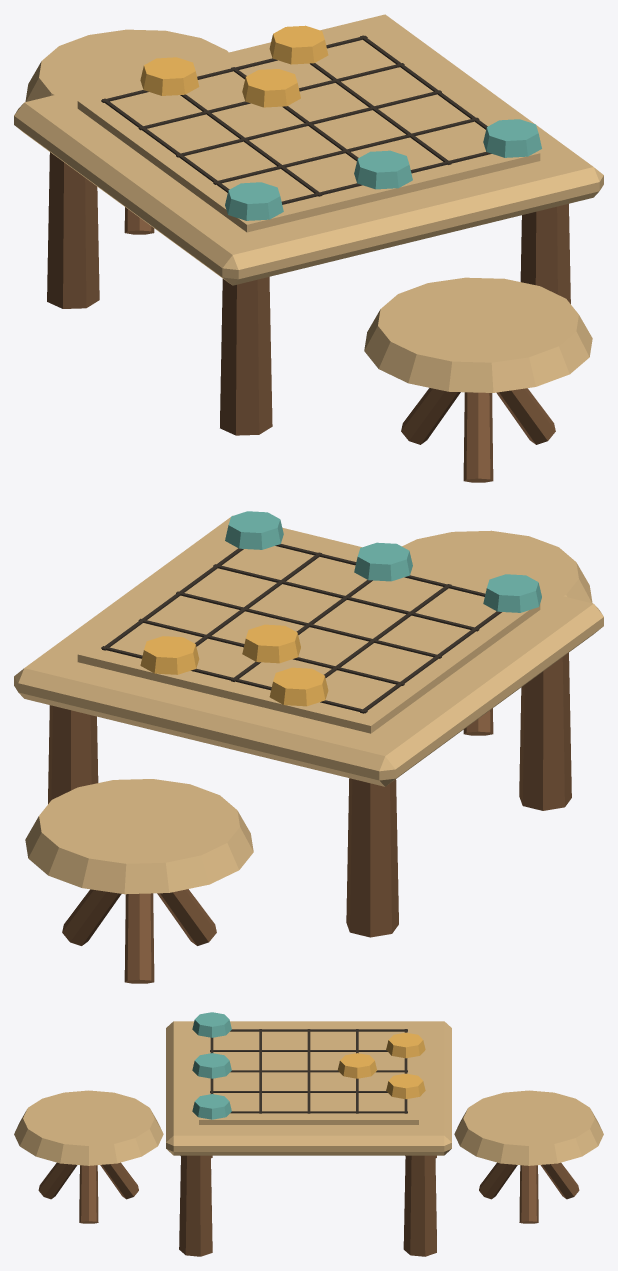
File: CC_Janggi.fbx
The picture shows the model from 3 angles, top to bottom: view 1: azimuth 30°, elevation 25°; view 2: azimuth 150°, elevation 25°; view 3: azimuth 270°, elevation 25°; orthographic projection. The views are drawn at different scales.
Visible parts, largest first — view 1: Janggi board, Top.005, Stool seat.003, Leg.072, Stool seat.004, Leg.073, Leg.074, Stool leg.011, Janggi piece.002, Janggi piece.005, Janggi piece.001, Janggi piece.003 (+13 smaller); view 2: Janggi board, Top.005, Stool seat.004, Leg.073, Stool seat.003, Leg.072, Leg.075, Stool leg.013, Janggi piece.001, Janggi piece.003, Janggi piece.002, Janggi piece.004 (+13 smaller); view 3: Top.005, Janggi board, Stool seat.003, Stool seat.004, Leg.074, Leg.075, Stool leg.009, Stool leg.012, Janggi piece, Janggi piece.001, Janggi piece.002, Janggi piece.005 (+11 smaller).
Part boxes in pixels (x1,y1,x2,y2): Janggi board: [77, 29, 540, 232]; Top.005: [14, 14, 603, 285]; Stool seat.003: [364, 277, 592, 392]; Leg.072: [220, 277, 272, 435]; Stool seat.004: [25, 29, 228, 101]; Leg.073: [47, 152, 99, 308]; Leg.074: [520, 204, 570, 303]; Stool leg.011: [463, 392, 493, 482]; Janggi piece.002: [483, 119, 541, 157]; Janggi piece.005: [242, 69, 300, 107]; Janggi piece.001: [354, 150, 412, 189]; Janggi piece.003: [140, 57, 199, 95]; Janggi board: [77, 539, 540, 733]; Top.005: [14, 515, 603, 786]; Stool seat.004: [25, 779, 253, 894]; Leg.073: [346, 778, 398, 937]; Stool seat.003: [402, 530, 592, 603]; Leg.072: [519, 653, 571, 810]; Leg.075: [48, 705, 98, 803]; Stool leg.013: [124, 893, 154, 983]; Janggi piece.001: [354, 542, 412, 581]; Janggi piece.003: [269, 667, 328, 706]; Janggi piece.002: [225, 511, 283, 549]; Janggi piece.004: [140, 636, 199, 674]; Top.005: [166, 1021, 451, 1155]; Janggi board: [199, 1027, 418, 1124]; Stool seat.003: [14, 1090, 163, 1165]; Stool seat.004: [454, 1090, 603, 1165]; Leg.074: [179, 1155, 212, 1256]; Leg.075: [403, 1155, 436, 1256]; Stool leg.009: [79, 1165, 98, 1223]; Stool leg.012: [519, 1165, 538, 1223]; Janggi piece: [192, 1012, 231, 1037]; Janggi piece.001: [192, 1053, 231, 1078]; Janggi piece.002: [192, 1094, 231, 1119]; Janggi piece.005: [337, 1053, 377, 1078].
Size of the model in its own units: 1.3 by 0.732 by 2.68.
